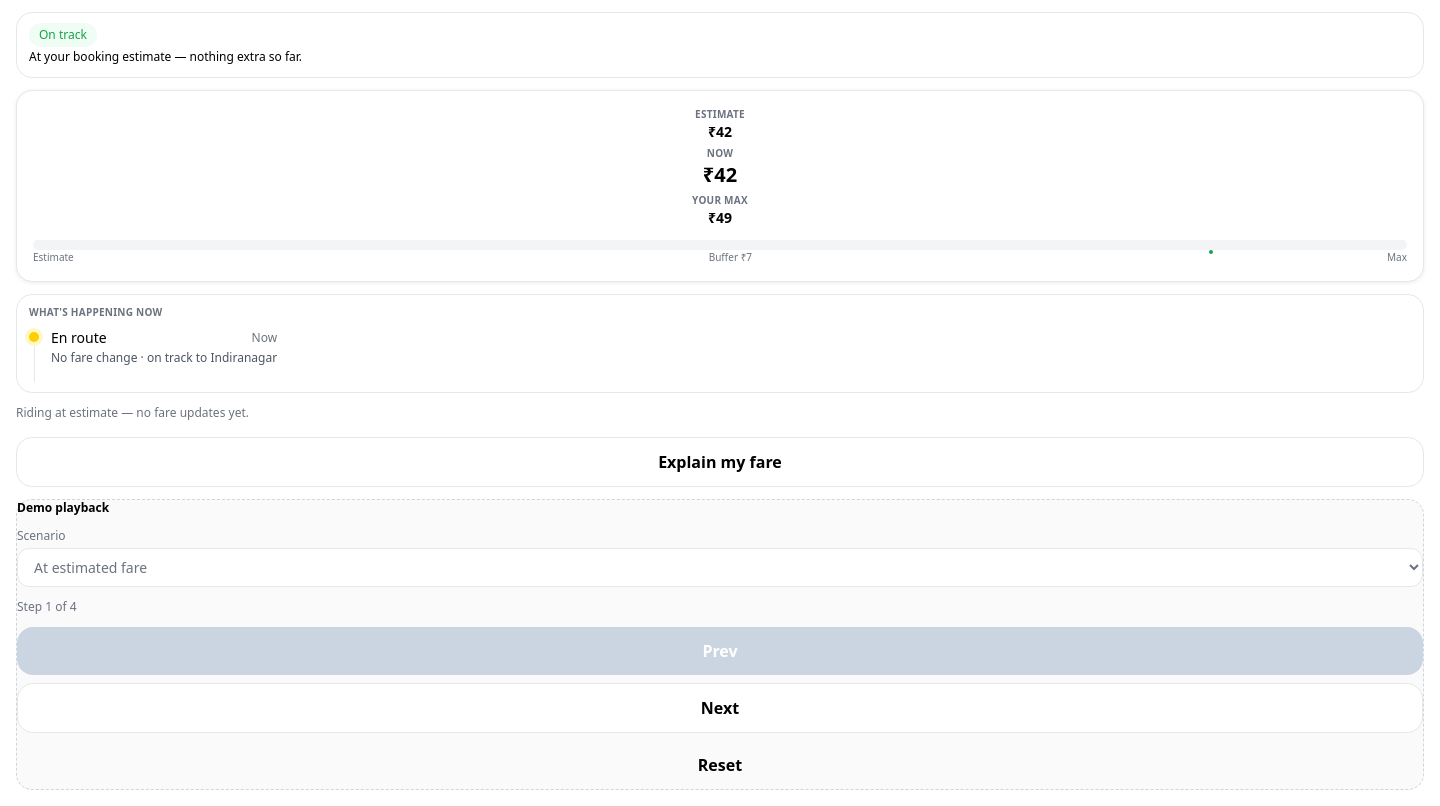
Test: live ride scenario integration › does not leak prior scenario copy after switching to within max
(page scrolled)
Expected: the element with test id "fare-trust-indicator" is shown, [16,12,1424,78]
Select "Review required" in the dropdown with test id "playback-scenario-select". click: coordinates (720, 567)
box: [17,548,1423,587]
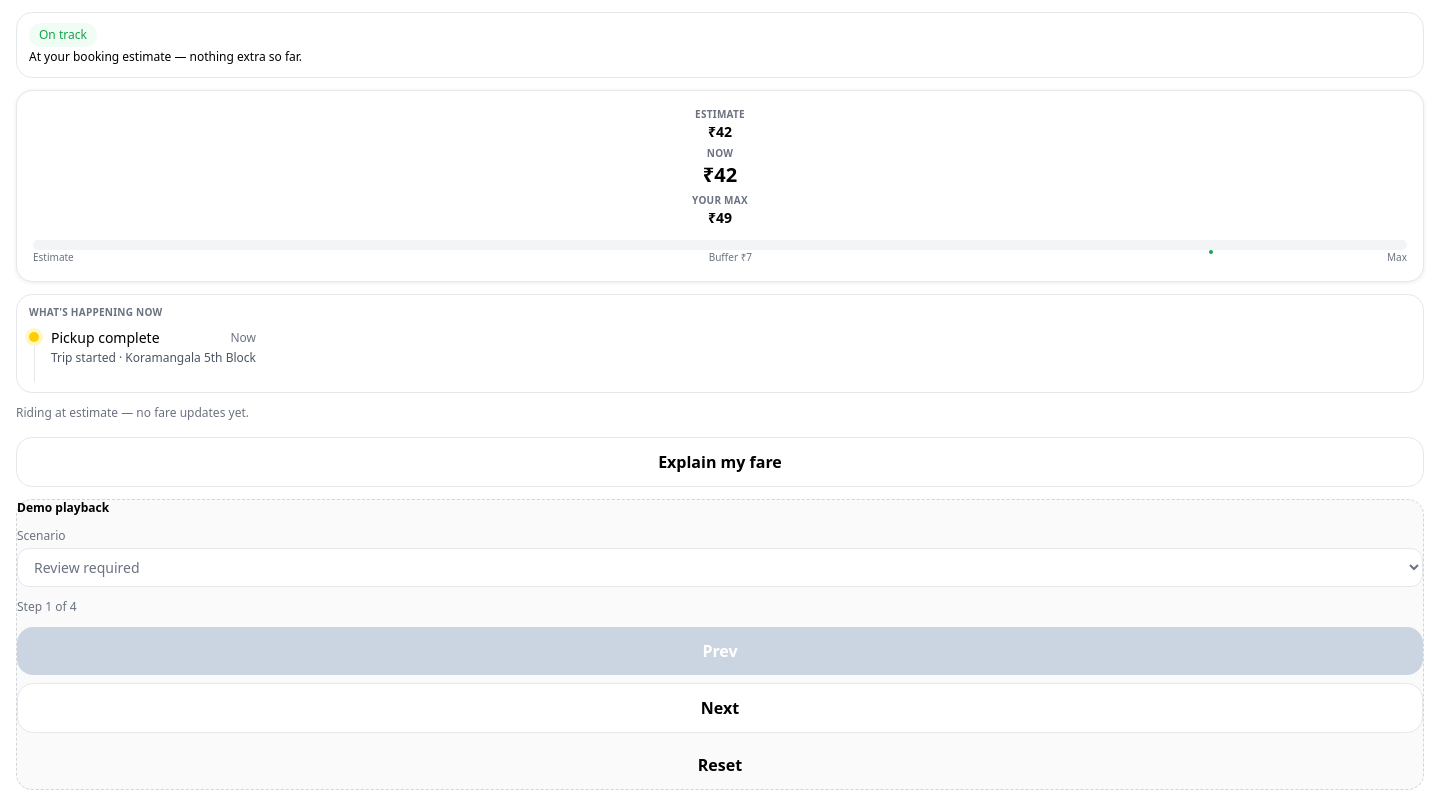
Click the button "Next". click: coordinates (720, 708)
box: [17,683,1423,733]
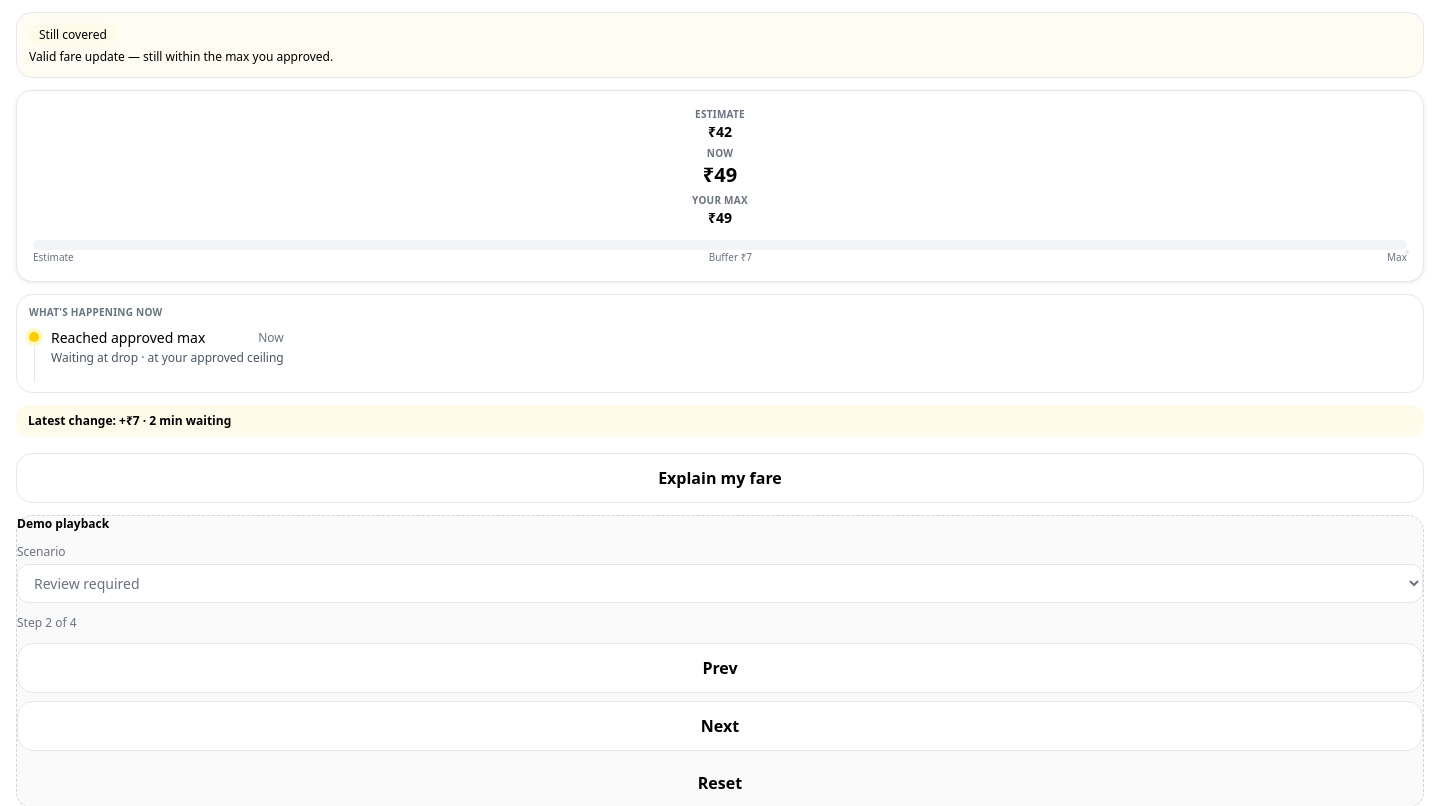
Click the button "Next". click: coordinates (720, 726)
box: [17,701,1423,751]
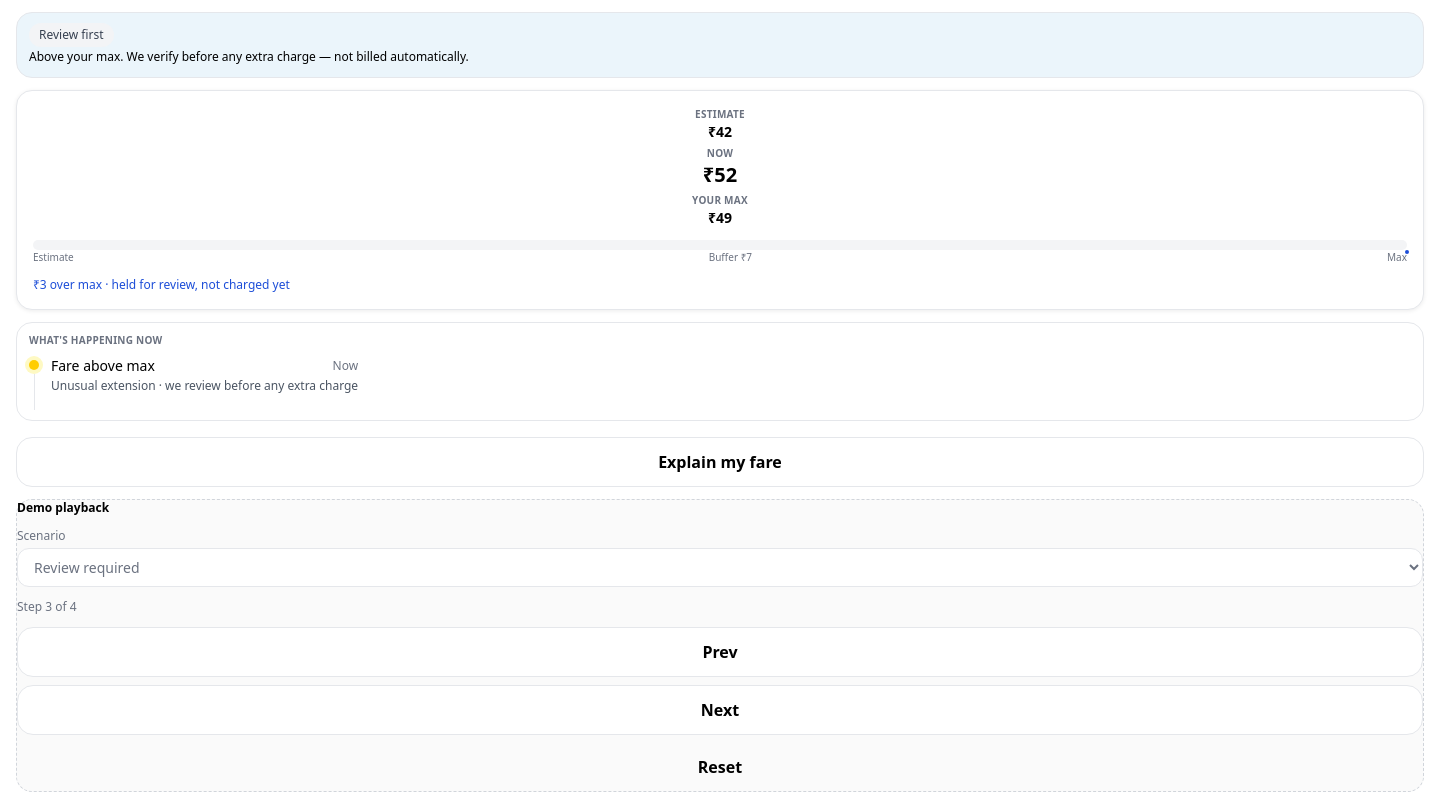
Expected: the element with test id "fare-trust-indicator" shows "Review first", [39,26,104,43]
Select "At estimated fare" in the dropdown with test id "playback-scenario-select". click: coordinates (720, 567)
box: [17,548,1423,587]
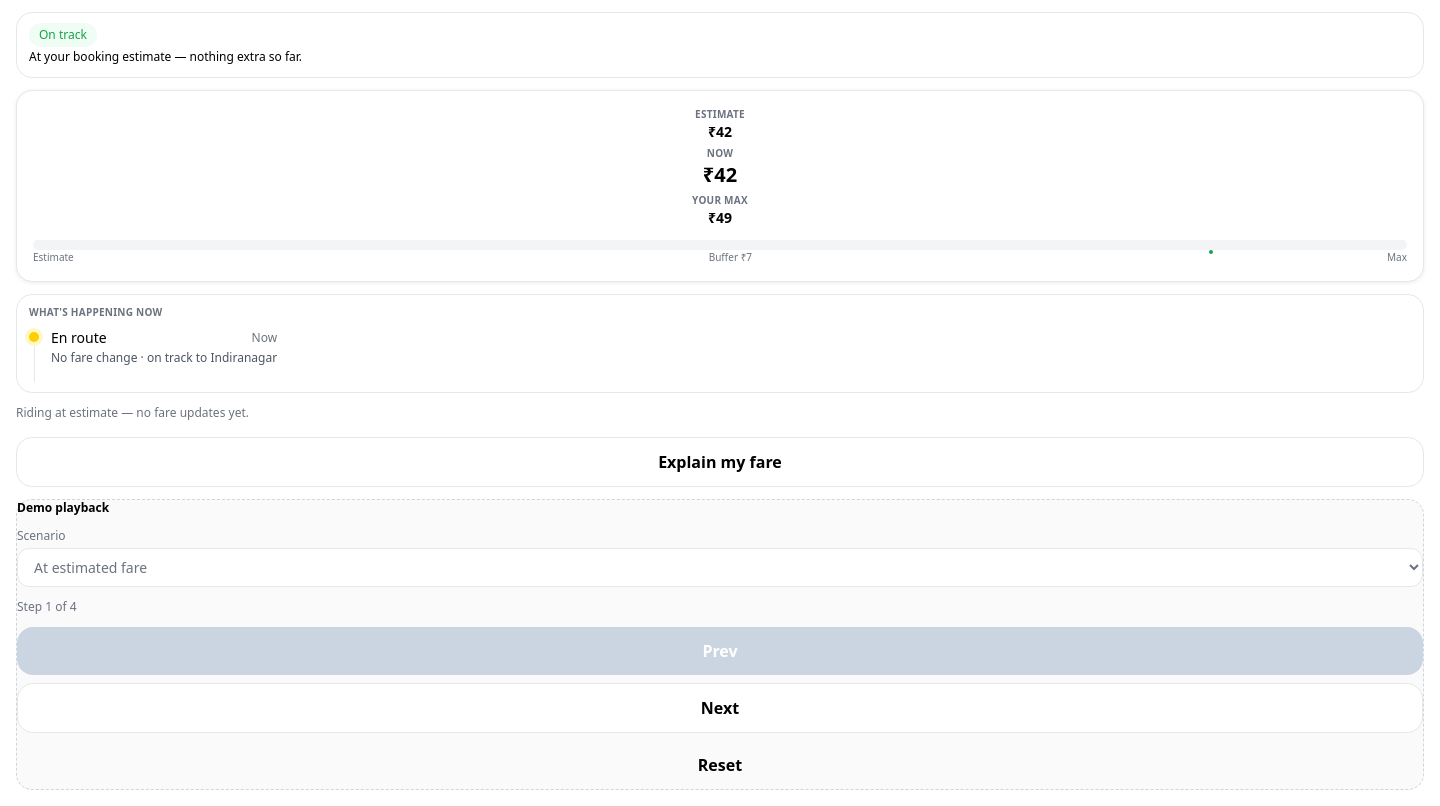
Expected: the element with test id "fare-trust-indicator" shows "On track", [39,26,87,43]
Expected: the element with test id "fare-trust-indicator" no longer shows "Review first", [16,12,1424,78]
